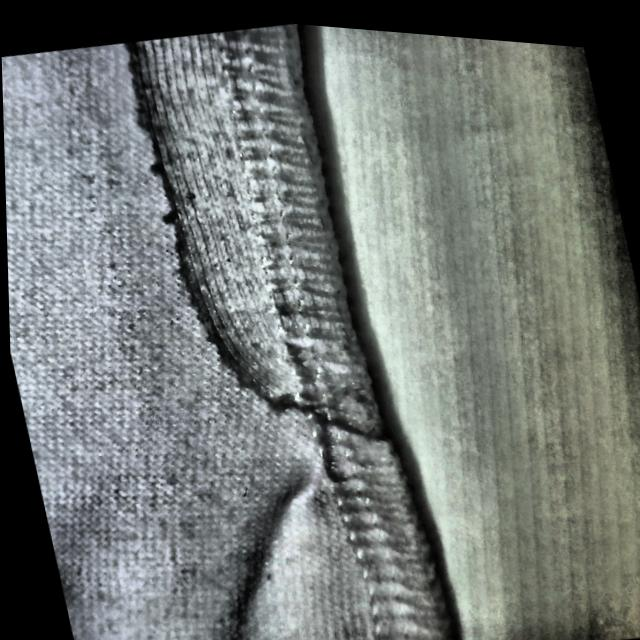seam: (69, 4, 376, 440)
